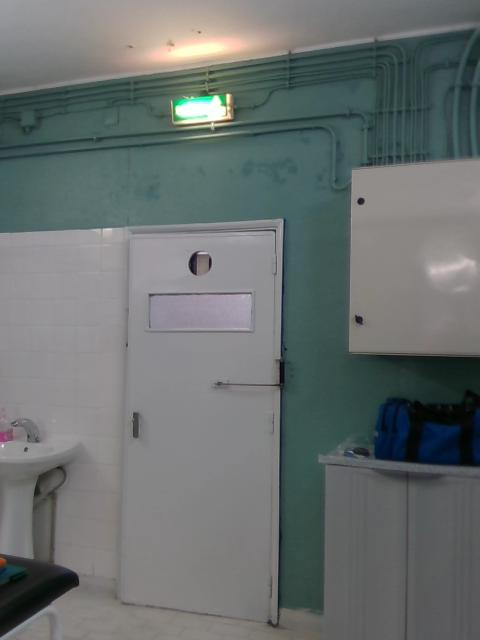door: (128, 229, 275, 622)
